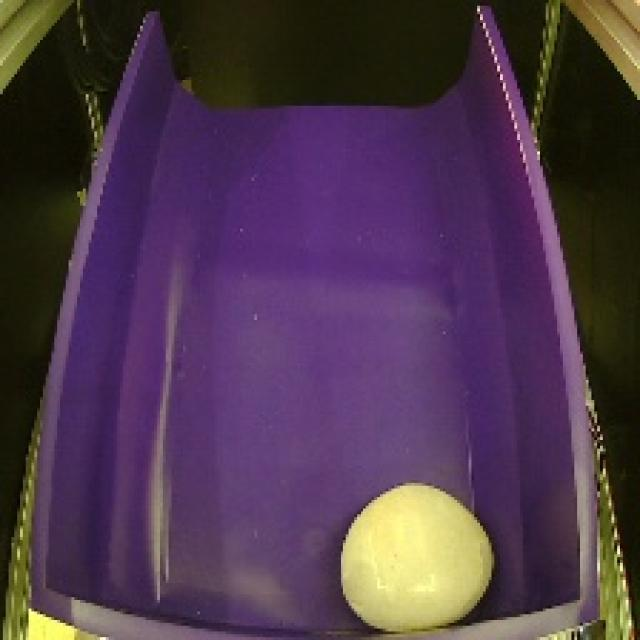cobbles: (324, 472, 501, 634)
